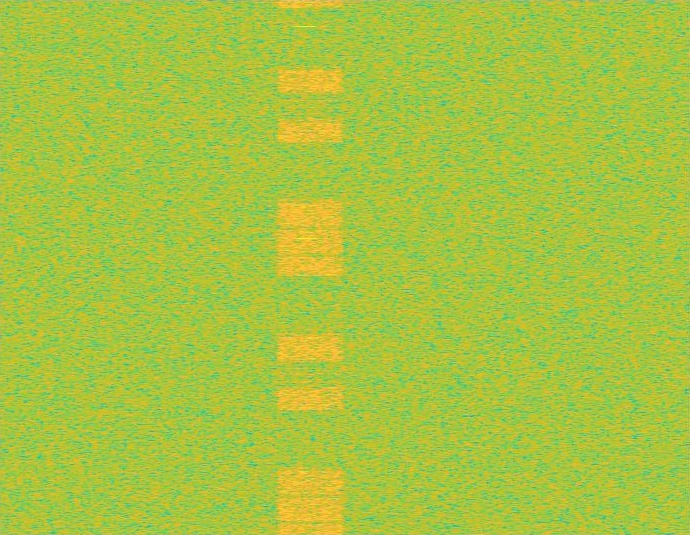LTE: (276, 0, 345, 534)
Radar: (299, 0, 312, 534)
